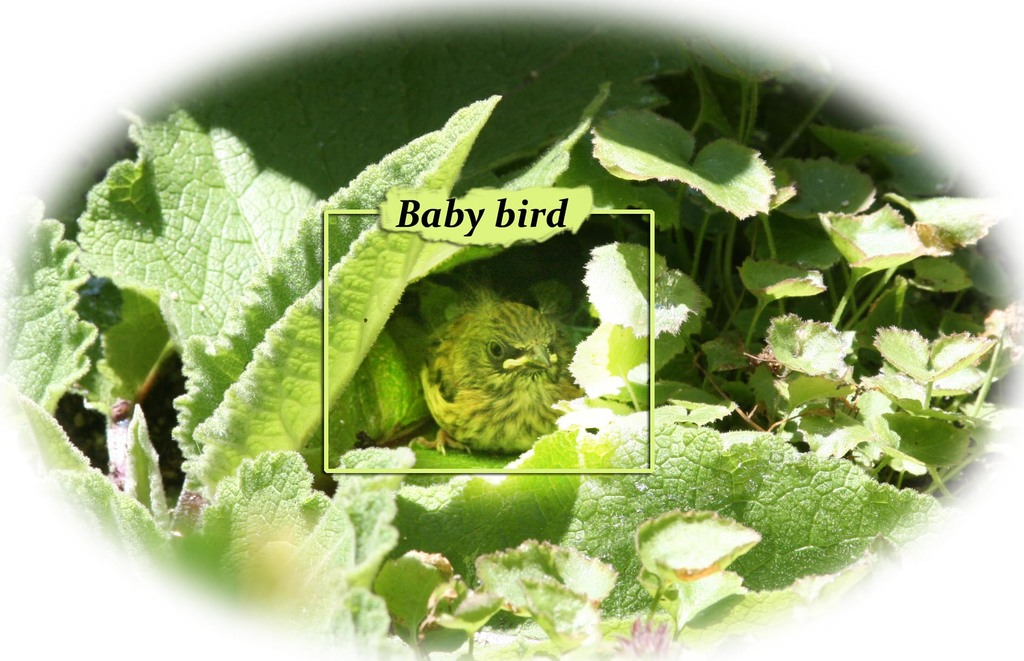Bird: (410, 302, 627, 453)
